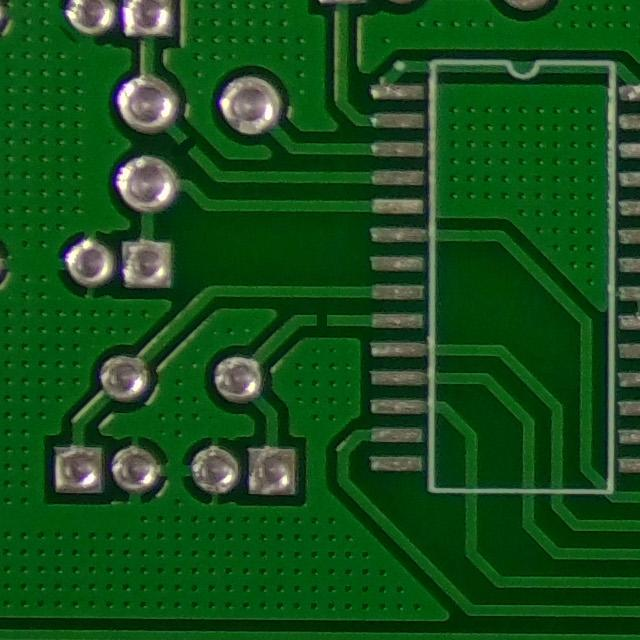open_circuit: (308, 307, 333, 334)
